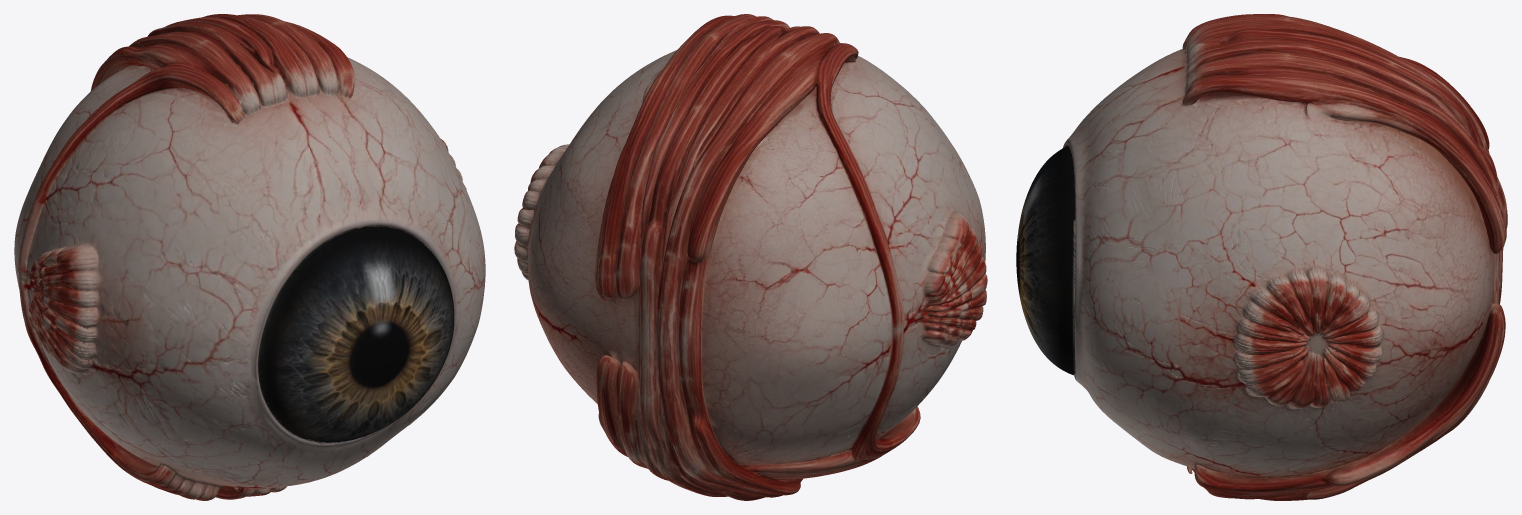
Rendered from eye-v2.glb.
3 renders of one model, left to right at view 1: azimuth 30°, elevation 25°; view 2: azimuth 150°, elevation 25°; view 3: azimuth 270°, elevation 25°, orthographic. The views are drawn at different scales.
Parts seen in each view (by area): view 1: tripo_node_8c66ad5f-1584-4a76-bce7-1cc2544feb4b; view 2: tripo_node_8c66ad5f-1584-4a76-bce7-1cc2544feb4b; view 3: tripo_node_8c66ad5f-1584-4a76-bce7-1cc2544feb4b.
Part boxes in pixels (bbox=[...]): tripo_node_8c66ad5f-1584-4a76-bce7-1cc2544feb4b: bbox=[14, 14, 485, 500]; tripo_node_8c66ad5f-1584-4a76-bce7-1cc2544feb4b: bbox=[514, 14, 987, 500]; tripo_node_8c66ad5f-1584-4a76-bce7-1cc2544feb4b: bbox=[1016, 14, 1507, 500].
Size of the model in its own units: 0.9405 by 0.9802 by 0.9584.
Materials: 1 (1 with a texture image).
